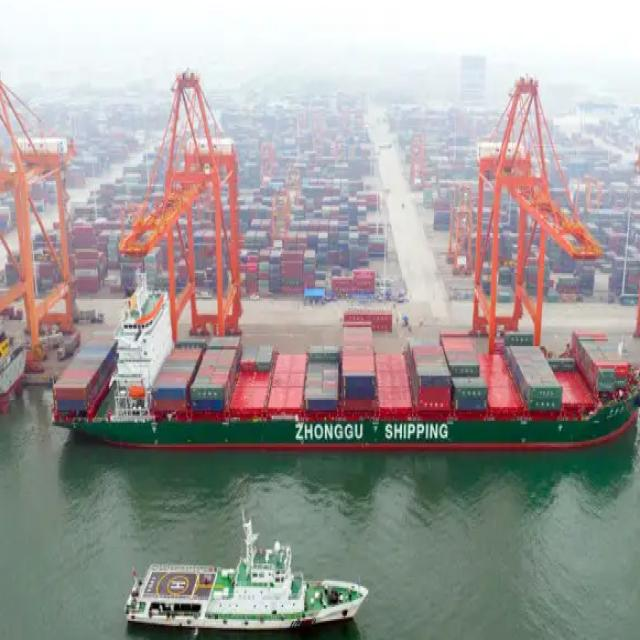cargoship: (50, 270, 635, 457)
passenger ship: (121, 525, 369, 634)
